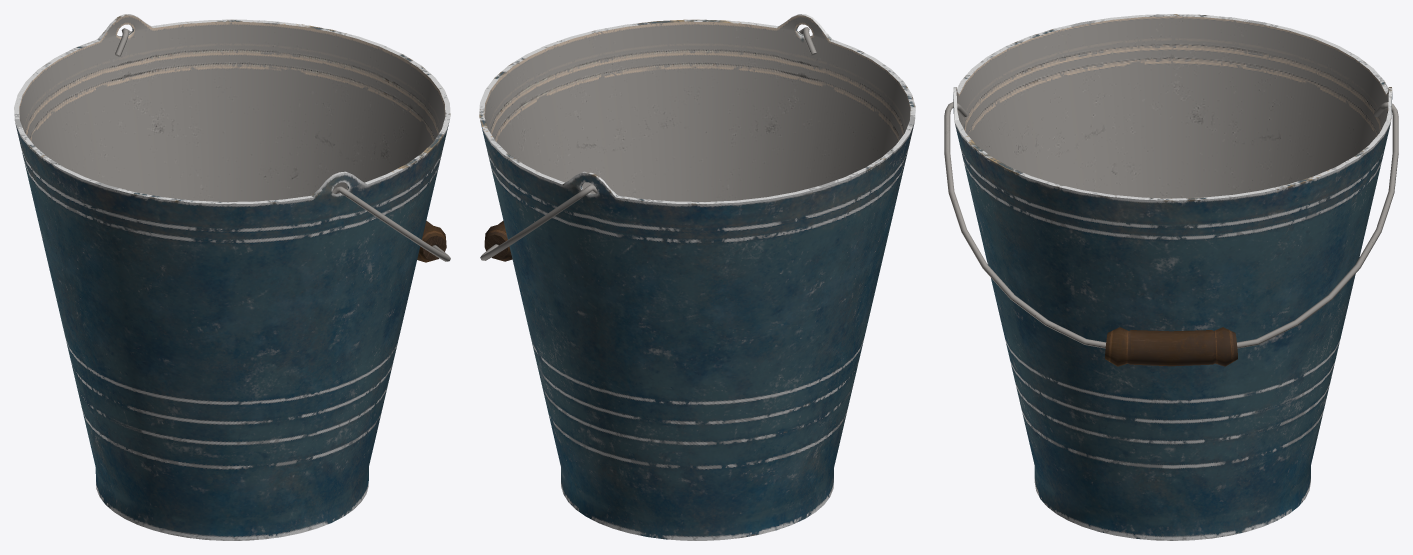
The model's file is bucket_blue.glb.
3 views of the same model, side by side, from view 1: azimuth 30°, elevation 25°; view 2: azimuth 150°, elevation 25°; view 3: azimuth 270°, elevation 25° (orthographic).
Visible parts, largest first — view 1: Kova, Kovatut; view 2: Kova, Kovatut; view 3: Kova, Kovatut.
Part boxes in pixels (<box>): Kova: <box>14,14,450,540</box>; Kovatut: <box>115,28,450,262</box>; Kova: <box>479,14,915,540</box>; Kovatut: <box>480,27,816,261</box>; Kova: <box>953,14,1392,540</box>; Kovatut: <box>944,102,1398,366</box>.
Size of the model in its own units: 0.6502 by 0.6391 by 0.6691.
Materials: 1 (1 with a texture image).
